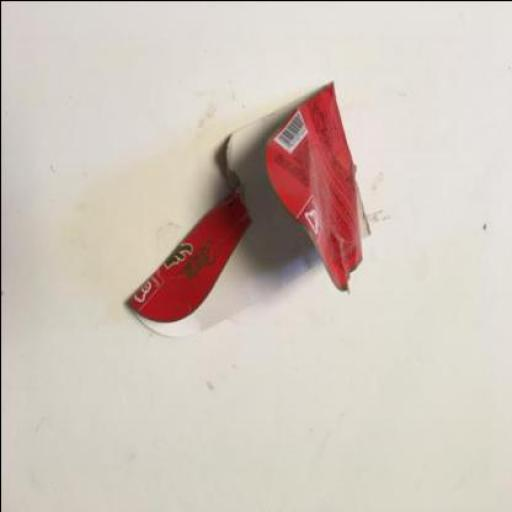paper: (124, 86, 370, 340)
